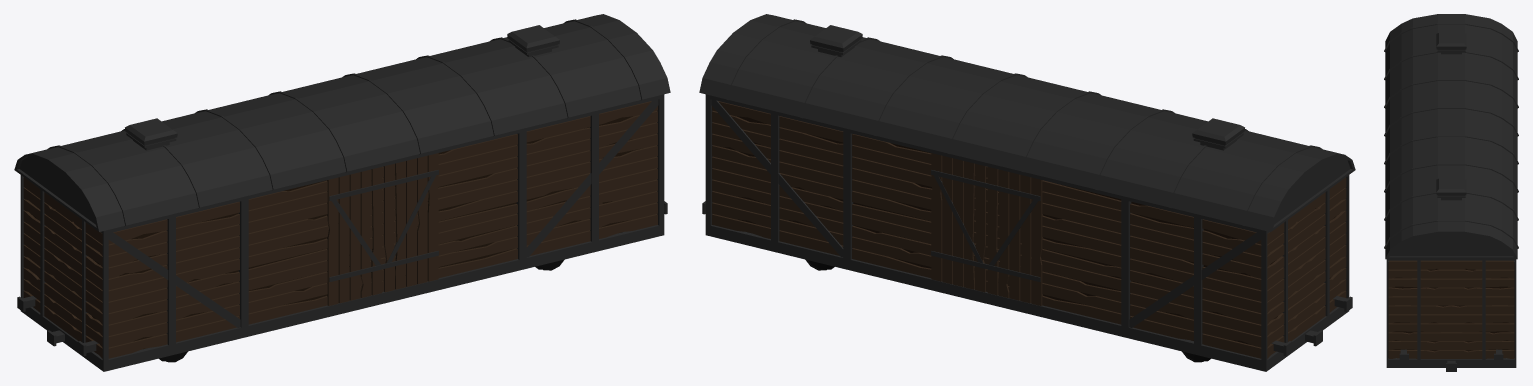
Rendered from locomotive-wagon.glb.
3 renders of one model, left to right at view 1: azimuth 30°, elevation 25°; view 2: azimuth 150°, elevation 25°; view 3: azimuth 270°, elevation 25°, orthographic. The views are drawn at different scales.
Parts seen in each view (by area): view 1: Locomotive_Wagon; view 2: Locomotive_Wagon; view 3: Locomotive_Wagon.
Part boxes in pixels (bbox=[...]): Locomotive_Wagon: bbox=[14, 14, 670, 371]; Locomotive_Wagon: bbox=[699, 14, 1355, 371]; Locomotive_Wagon: bbox=[1384, 14, 1518, 371].
Bounding box in the file's own units: 806 × 295 × 207.
